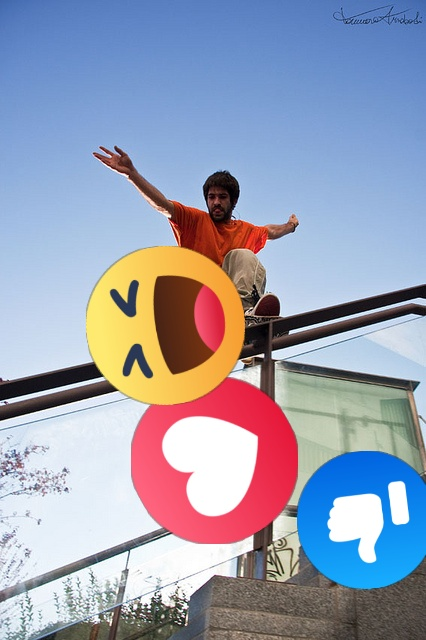haha: (86, 246, 245, 405)
like: (297, 451, 426, 589)
love: (131, 377, 298, 544)
